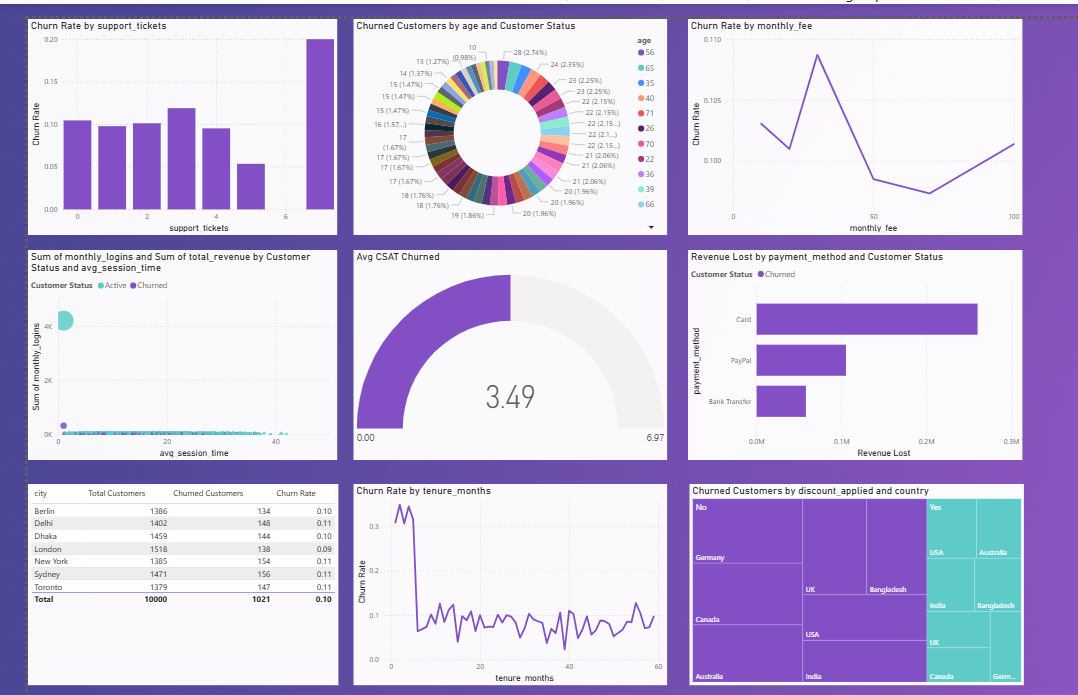

Layout of this report page (visuals, bound fields, positions):
{"tool":"powerbi","page":{"name":"Detailed Insights","canvas":[2000,2000],"ordinal":1},"visuals":[{"type":"lineChart","fields":{"Category":["customer_churn_business_dataset.monthly_fee"],"Y":["customer_churn_business_dataset.Churn Rate"]},"box":[1100,0,557.5,360],"z":0},{"type":"gauge","fields":{"Y":["customer_churn_business_dataset.Avg CSAT Churned"]},"box":[542.5,385,522.5,350],"z":1000},{"type":"tableEx","fields":{"Values":["customer_churn_business_dataset.city","customer_churn_business_dataset.Total Customers","customer_churn_business_dataset.Churned Customers","customer_churn_business_dataset.Churn Rate"]},"box":[0,775,517.5,335],"z":2000},{"type":"donutChart","fields":{"Category":["customer_churn_business_dataset.age"],"Y":["customer_churn_business_dataset.Churned Customers"],"Series":["customer_churn_business_dataset.Customer Status"]},"box":[542.5,0,522.5,360],"z":3000},{"type":"scatterChart","fields":{"X":["customer_churn_business_dataset.avg_session_time"],"Y":["Sum(customer_churn_business_dataset.monthly_logins)"],"Series":["customer_churn_business_dataset.Customer Status"],"Size":["Sum(customer_churn_business_dataset.total_revenue)"]},"box":[0,385,515,350],"z":4000},{"type":"barChart","fields":{"Category":["customer_churn_business_dataset.payment_method"],"Y":["customer_churn_business_dataset.Revenue Lost"],"Series":["customer_churn_business_dataset.Customer Status"]},"box":[1100,385,557.5,350],"z":5000},{"type":"clusteredColumnChart","fields":{"Category":["customer_churn_business_dataset.support_tickets"],"Y":["customer_churn_business_dataset.Churn Rate"]},"box":[0,0,515,360],"z":6000},{"type":"lineChart","fields":{"Category":["customer_churn_business_dataset.tenure_months"],"Y":["customer_churn_business_dataset.Churn Rate"]},"box":[542.5,775,522.5,335],"z":7000},{"type":"treemap","fields":{"Group":["customer_churn_business_dataset.discount_applied"],"Details":["customer_churn_business_dataset.country"],"Values":["customer_churn_business_dataset.Churned Customers"]},"box":[1102.5,775,557.5,335],"z":8000}]}

Visuals, with their boxes on the page's 2000x2000 design canvas (x1, y1, x2, y2). These are canvas units, not pixel positions in the 1078x695 screenshot, which may show the page scaled, cropped or inside an application window:
lineChart - customer_churn_business_dataset.monthly_fee x customer_churn_business_dataset.Churn Rate: {"left": 1100, "top": 0, "right": 1658, "bottom": 360}
gauge - customer_churn_business_dataset.Avg CSAT Churned: {"left": 542, "top": 385, "right": 1065, "bottom": 735}
tableEx - customer_churn_business_dataset.city x customer_churn_business_dataset.Total Customers: {"left": 0, "top": 775, "right": 518, "bottom": 1110}
donutChart - customer_churn_business_dataset.age x customer_churn_business_dataset.Churned Customers: {"left": 542, "top": 0, "right": 1065, "bottom": 360}
scatterChart - customer_churn_business_dataset.avg_session_time x Sum(customer_churn_business_dataset.monthly_logins): {"left": 0, "top": 385, "right": 515, "bottom": 735}
barChart - customer_churn_business_dataset.payment_method x customer_churn_business_dataset.Revenue Lost: {"left": 1100, "top": 385, "right": 1658, "bottom": 735}
clusteredColumnChart - customer_churn_business_dataset.support_tickets x customer_churn_business_dataset.Churn Rate: {"left": 0, "top": 0, "right": 515, "bottom": 360}
lineChart - customer_churn_business_dataset.tenure_months x customer_churn_business_dataset.Churn Rate: {"left": 542, "top": 775, "right": 1065, "bottom": 1110}
treemap - customer_churn_business_dataset.discount_applied x customer_churn_business_dataset.country: {"left": 1102, "top": 775, "right": 1660, "bottom": 1110}
